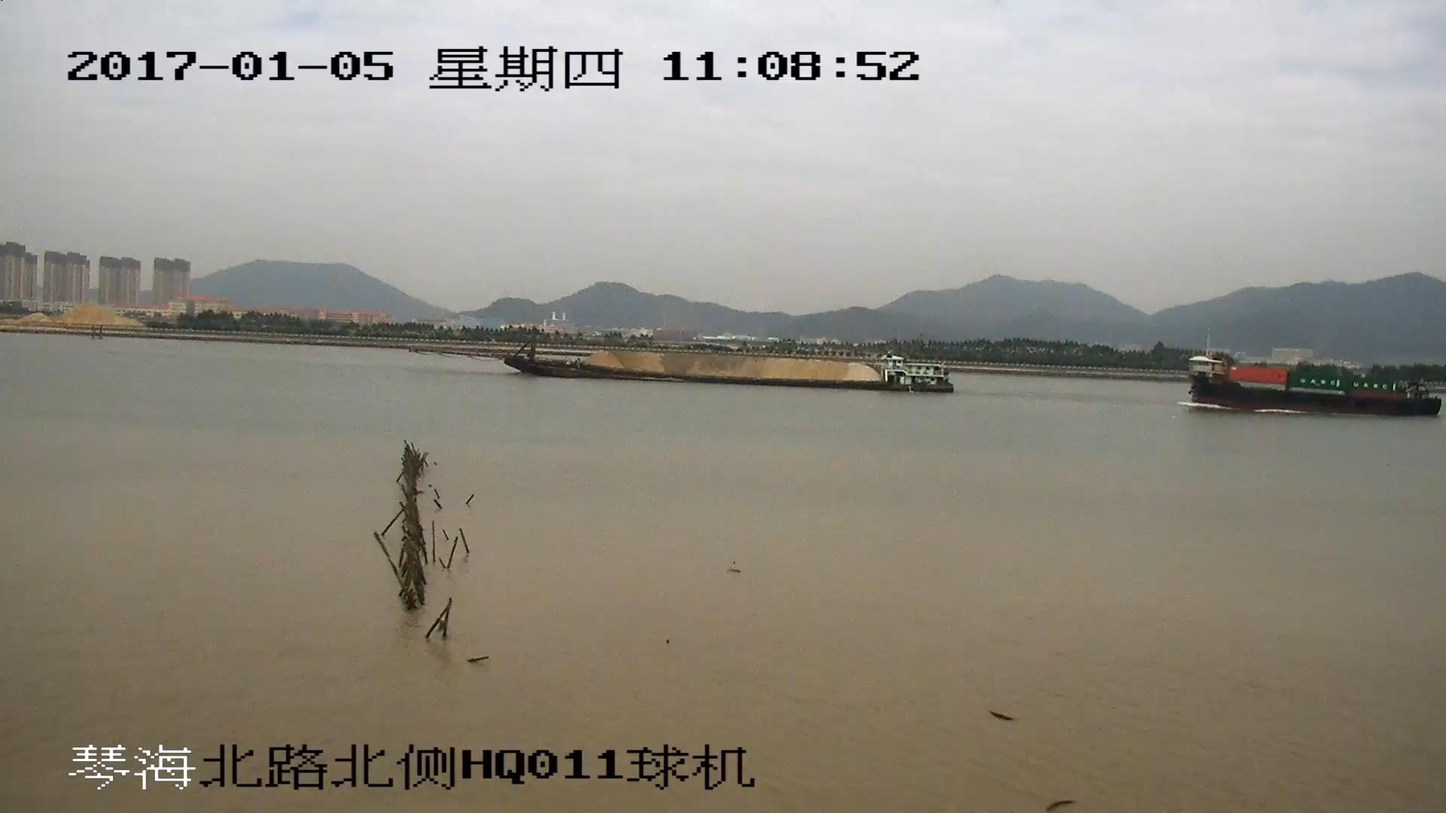container ship: (1189, 352, 1441, 415)
ore carrier: (423, 330, 951, 390)
